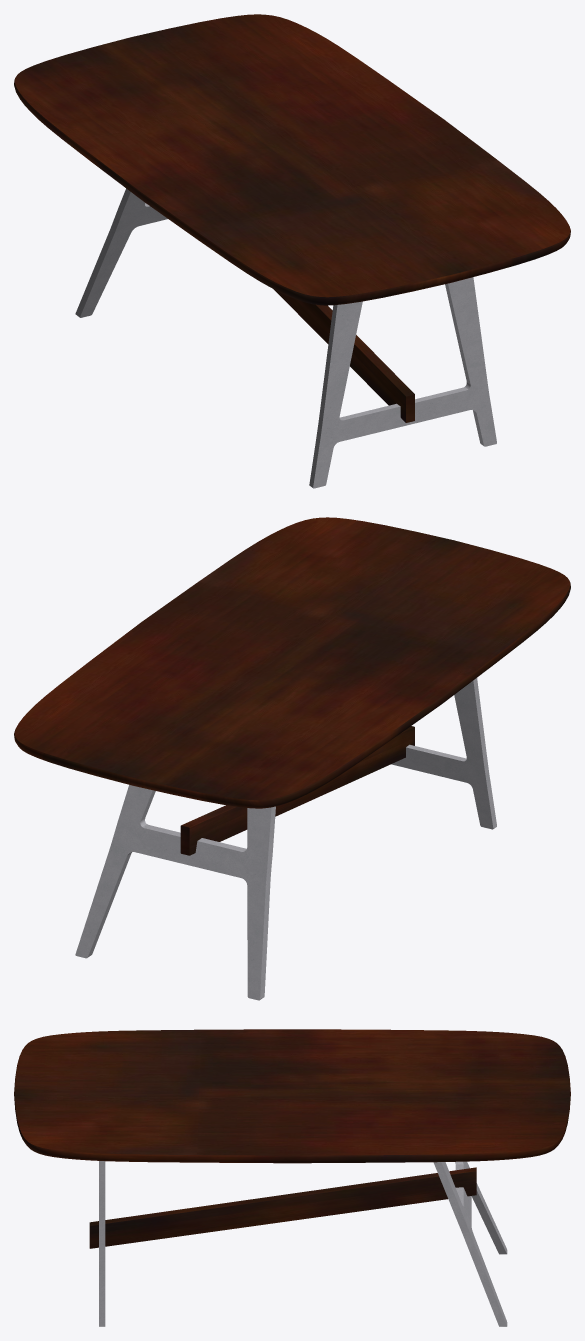
The model's file is table2.glb.
The picture shows the model from 3 angles, top to bottom: view 1: azimuth 30°, elevation 25°; view 2: azimuth 150°, elevation 25°; view 3: azimuth 270°, elevation 25°; orthographic projection. The views are drawn at different scales.
Visible parts, largest first — view 1: Slot t.002; view 2: Slot t.002; view 3: Slot t.002.
Boxes of the visible parts, x1=… form: Slot t.002: x1=14, y1=14, x2=570, y2=488; Slot t.002: x1=14, y1=517, x2=570, y2=1000; Slot t.002: x1=14, y1=1029, x2=570, y2=1326.
Bounding box in the file's own units: 1.08 × 0.7744 × 1.99.
2 materials, 2 textured.
